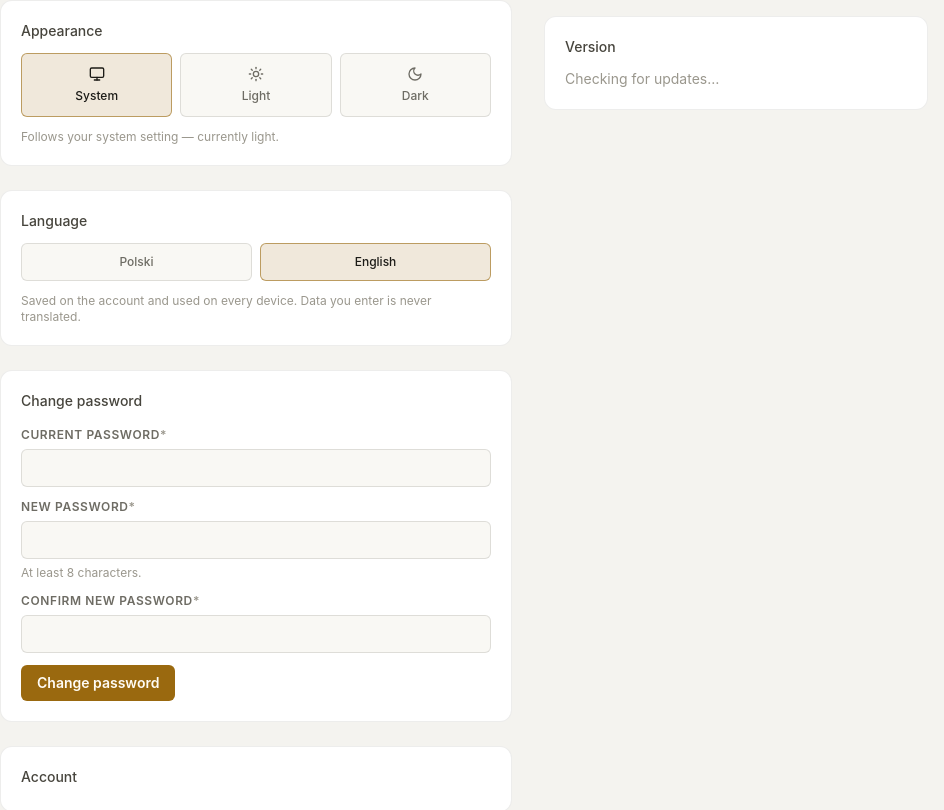
SettingsView language switcher › switches the whole view to Polish when Polski is chosen
Click the radio button labelled "Polski" at (136, 262), box [21,243,252,281]
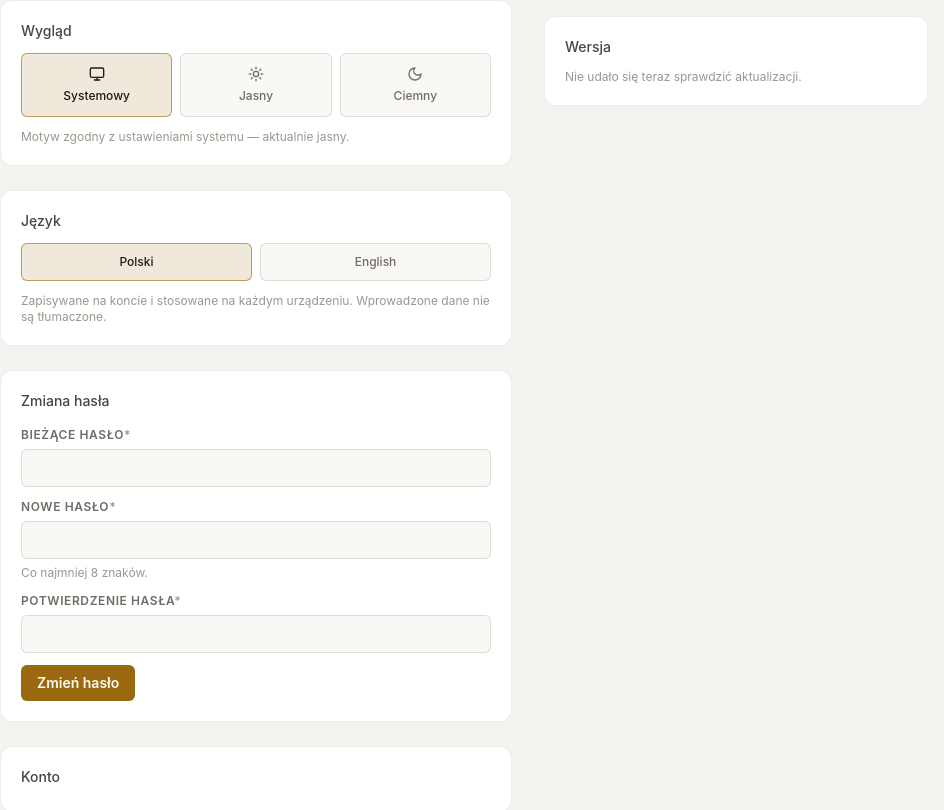
Result: the text "Zmiana hasła" is shown at [21,392,109,409]
Result: the text "Bieżące hasło" is shown at [21,427,124,442]
Result: the text "Język" is shown at [21,212,61,229]
